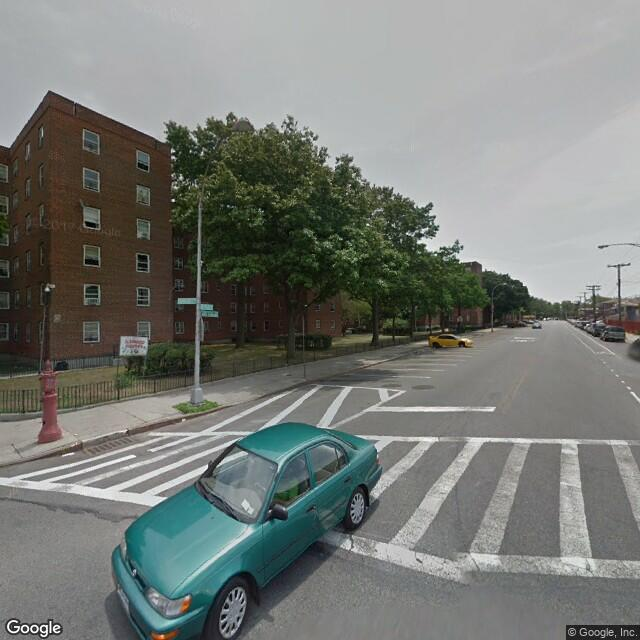litter: (56, 450, 76, 457), (180, 417, 186, 421)
